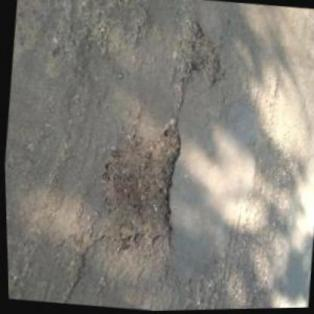Hueco: (86, 123, 186, 261), (165, 16, 226, 90)
